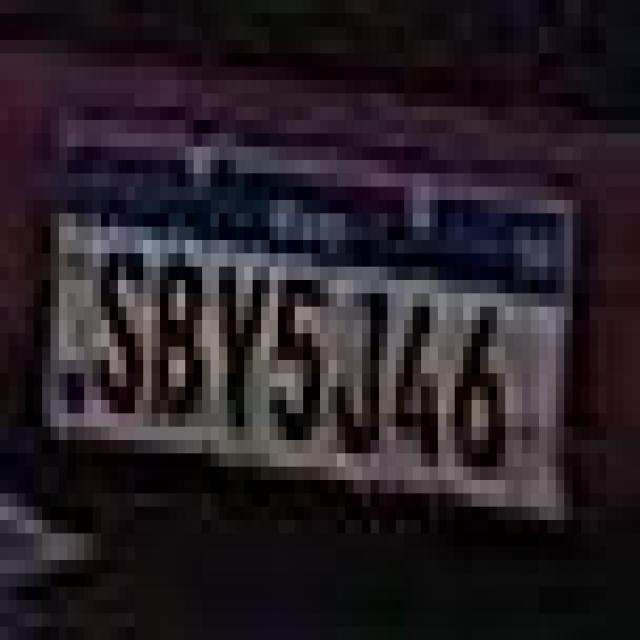4: (392, 286, 443, 485)
5: (267, 248, 332, 454)
6: (448, 276, 520, 488)
B: (157, 239, 210, 421)
J: (332, 257, 392, 477)
S: (90, 219, 146, 416)
Y: (214, 241, 270, 453)
